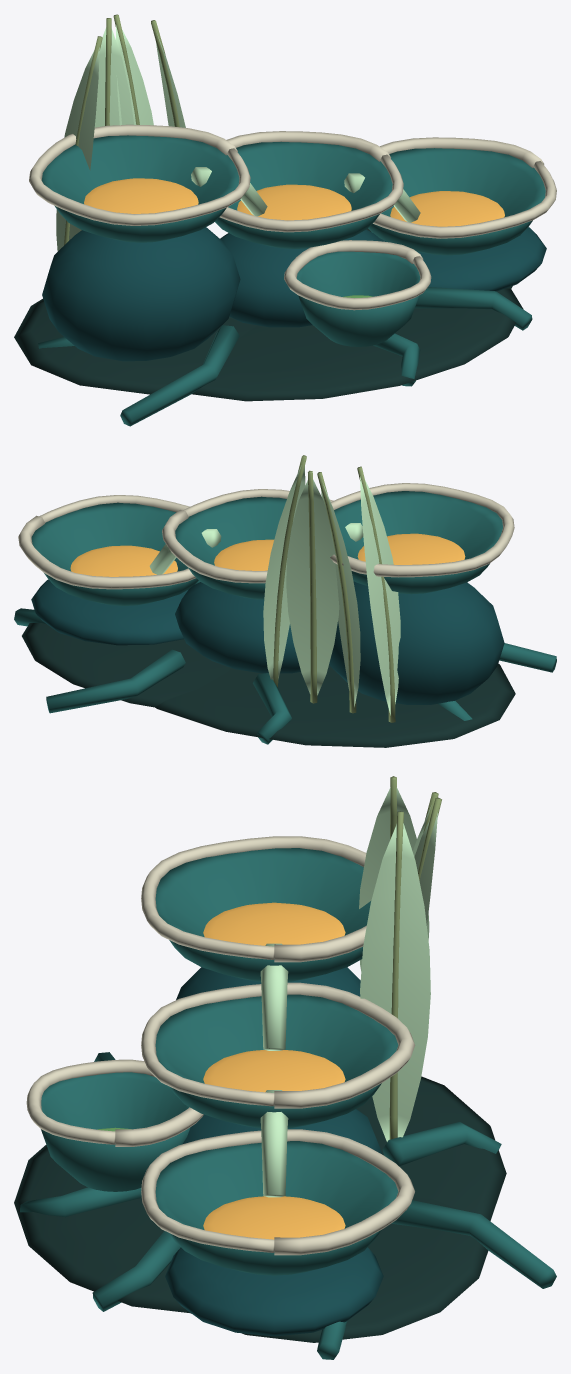
Rendered from building_nutrient_kitchen_a.obj.
3 renders of one model, top to bottom at view 1: azimuth 30°, elevation 25°; view 2: azimuth 150°, elevation 25°; view 3: azimuth 270°, elevation 25°, orthographic. The views are drawn at different scales.
Visible parts, largest first — view 1: supporting_chamber.006, irregular_anchoring_lobe.065, open_living_cup.065, open_living_cup.067, open_living_cup.066, open_living_cup.068, irregular_anchoring_lobe.063, grown_cup_lip.065, supporting_chamber.007, supporting_chamber.008, grown_cup_lip.067, grown_cup_lip.066 (+17 smaller); view 2: irregular_anchoring_lobe.063, supporting_chamber.006, open_living_cup.065, open_living_cup.067, irregular_anchoring_lobe.064, bent_living_blade.065, supporting_chamber.007, supporting_chamber.008, open_living_cup.066, grown_cup_lip.067, bent_living_blade.063, grown_cup_lip.065 (+15 smaller); view 3: open_living_cup.067, open_living_cup.066, open_living_cup.065, supporting_chamber.008, irregular_anchoring_lobe.065, bent_living_blade.066, open_living_cup.068, irregular_anchoring_lobe.064, grown_cup_lip.067, grown_cup_lip.066, irregular_anchoring_lobe.063, grown_cup_lip.065 (+16 smaller).
Boxes of the visible parts, left/top/right/bottom form: supporting_chamber.006: left=42, top=227, right=240, bottom=361; irregular_anchoring_lobe.065: left=191, top=288, right=523, bottom=401; open_living_cup.065: left=41, top=135, right=239, bottom=242; open_living_cup.067: left=368, top=148, right=545, bottom=255; open_living_cup.066: left=215, top=141, right=392, bottom=248; open_living_cup.068: left=296, top=251, right=420, bottom=346; irregular_anchoring_lobe.063: left=14, top=298, right=256, bottom=394; grown_cup_lip.065: left=29, top=124, right=250, bottom=225; supporting_chamber.007: left=220, top=229, right=380, bottom=327; supporting_chamber.008: left=379, top=227, right=546, bottom=291; grown_cup_lip.067: left=373, top=137, right=556, bottom=238; grown_cup_lip.066: left=219, top=131, right=403, bottom=232; irregular_anchoring_lobe.063: left=155, top=663, right=515, bottom=747; supporting_chamber.006: left=329, top=581, right=504, bottom=704; open_living_cup.065: left=334, top=491, right=502, bottom=594; open_living_cup.067: left=31, top=502, right=198, bottom=605; irregular_anchoring_lobe.064: left=22, top=623, right=230, bottom=707; bent_living_blade.065: left=286, top=479, right=339, bottom=695; supporting_chamber.007: left=175, top=582, right=300, bottom=673; supporting_chamber.008: left=31, top=579, right=187, bottom=645; open_living_cup.066: left=175, top=496, right=286, bottom=599; grown_cup_lip.067: left=18, top=495, right=195, bottom=589; bent_living_blade.063: left=360, top=476, right=400, bottom=715; grown_cup_lip.065: left=330, top=483, right=514, bottom=577; open_living_cup.067: left=155, top=1141, right=398, bottom=1275; open_living_cup.066: left=155, top=994, right=398, bottom=1128; open_living_cup.065: left=155, top=848, right=370, bottom=981; supporting_chamber.008: left=165, top=1247, right=383, bottom=1336; irregular_anchoring_lobe.065: left=14, top=1145, right=189, bottom=1312; bent_living_blade.066: left=360, top=823, right=430, bottom=1141; open_living_cup.068: left=41, top=1072, right=190, bottom=1191; irregular_anchoring_lobe.064: left=190, top=1196, right=488, bottom=1342; grown_cup_lip.067: left=141, top=1129, right=414, bottom=1255; grown_cup_lip.066: left=141, top=982, right=415, bottom=1108; irregular_anchoring_lobe.063: left=356, top=1076, right=506, bottom=1221; grown_cup_lip.065: left=141, top=836, right=366, bottom=962.
Size of the model in its own units: 3.63 by 1.96 by 2.73.
